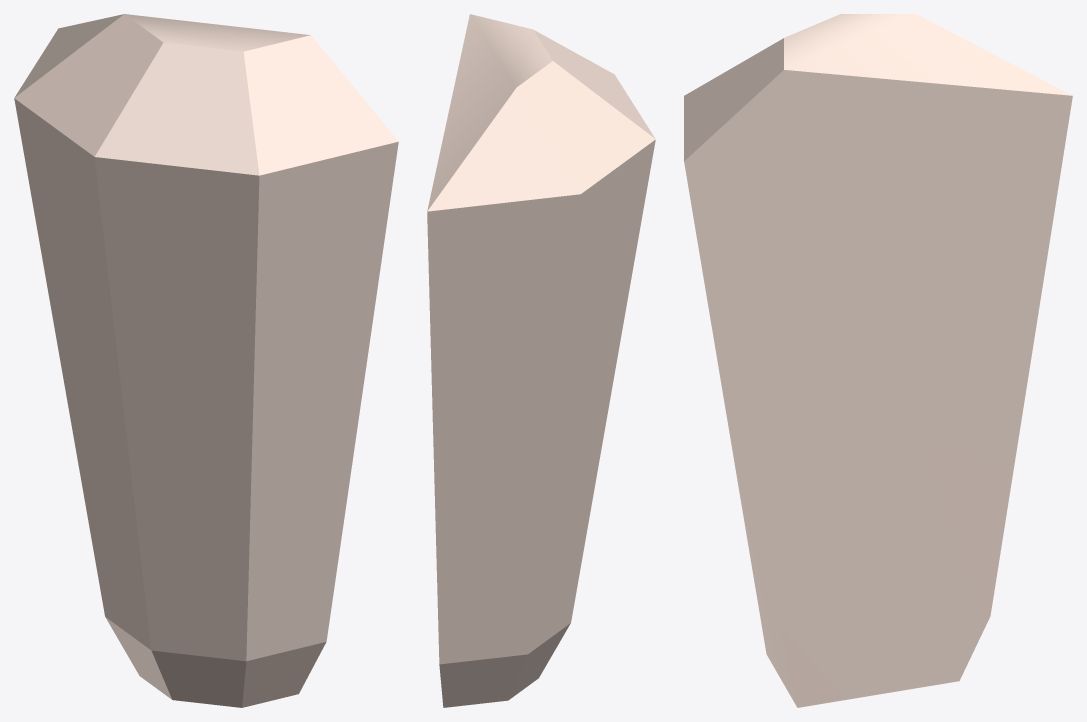
Rendered from PROP_Vase_3.fbx.
3 renders of one model, left to right at view 1: azimuth 30°, elevation 25°; view 2: azimuth 150°, elevation 25°; view 3: azimuth 270°, elevation 25°, orthographic. The views are drawn at different scales.
Parts seen in each view (by area): view 1: Vase_3; view 2: Vase_3; view 3: Vase_3.
Part boxes in pixels (left/top/right/bottom): Vase_3: left=14, top=14, right=398, bottom=707; Vase_3: left=427, top=14, right=655, bottom=707; Vase_3: left=684, top=14, right=1072, bottom=707.
Bounding box in the file's own units: 10.62 × 27.57 × 15.17.
